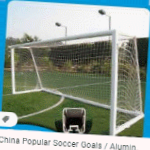goals: (8, 28, 143, 135)
